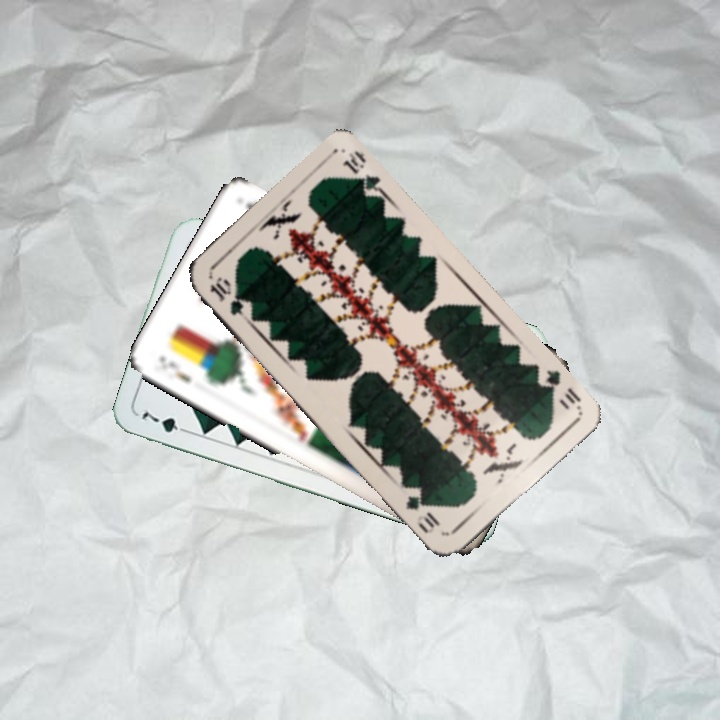EK: (154, 351, 194, 386)
G10: (532, 365, 584, 412), (205, 273, 250, 323)
G7: (137, 404, 194, 437)
